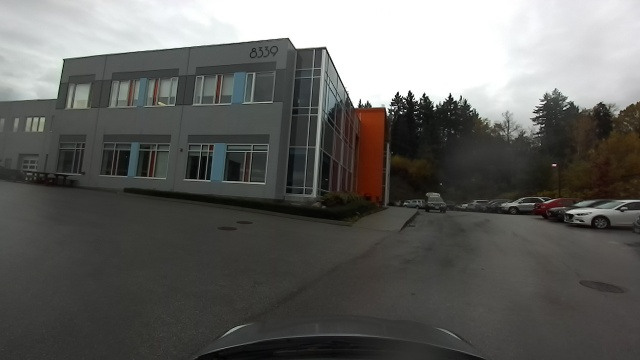car: (562, 198, 638, 228), (496, 194, 550, 218), (423, 192, 448, 216)
